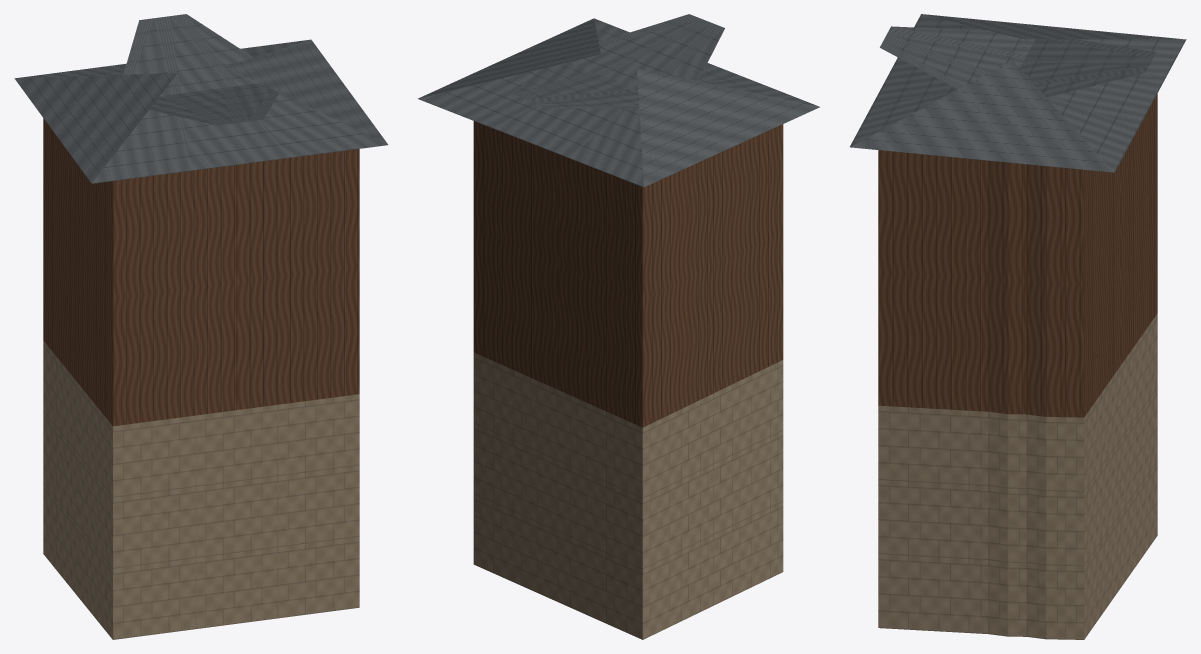
File: bld_c-8_36_389.gltf
3 renders of one model, left to right at view 1: azimuth 30°, elevation 25°; view 2: azimuth 150°, elevation 25°; view 3: azimuth 270°, elevation 25°, orthographic. The views are drawn at different scales.
Visible parts, largest first — view 1: bld_c-8_36_389; view 2: bld_c-8_36_389; view 3: bld_c-8_36_389.
Part boxes in pixels (<box>): bld_c-8_36_389: <box>14,14,388,639</box>; bld_c-8_36_389: <box>417,14,819,639</box>; bld_c-8_36_389: <box>850,14,1186,639</box>.
Bounding box in the file's own units: 7.81 × 12.2 × 7.
3 materials, 3 textured.
